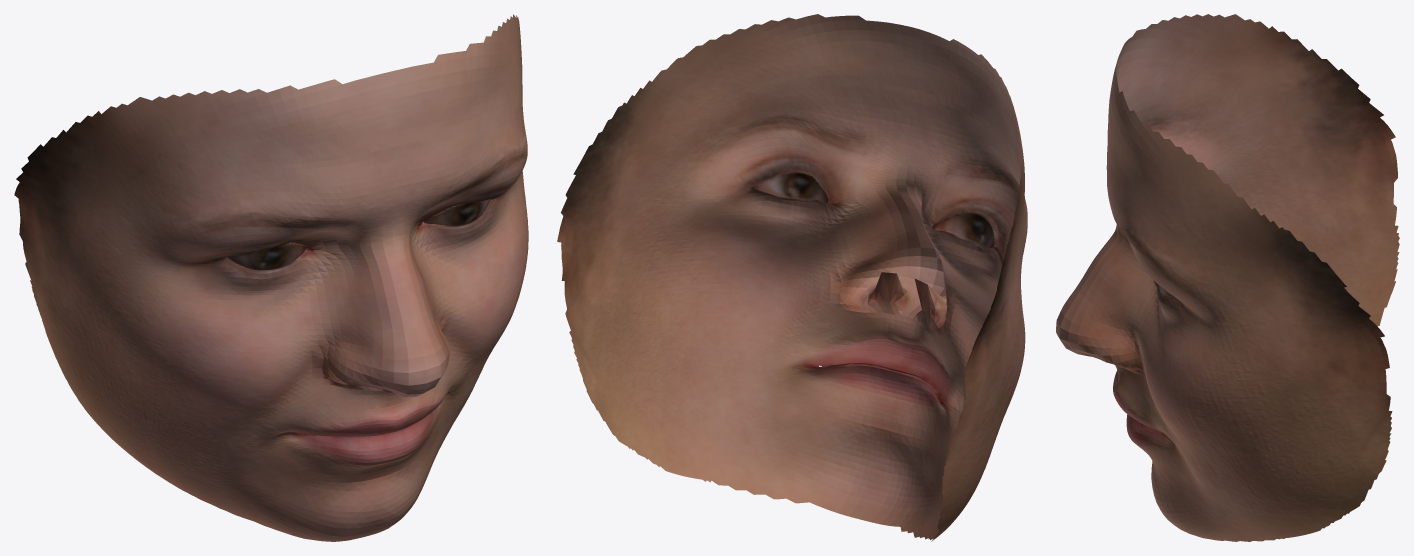
Rendered from girl2_mm.obj.
The picture shows the model from 3 angles, left to right: view 1: azimuth 30°, elevation 25°; view 2: azimuth 150°, elevation 25°; view 3: azimuth 270°, elevation 25°; orthographic projection. The views are drawn at different scales.
Bounding box in the file's own units: 1.53 × 1.57 × 1.08.
